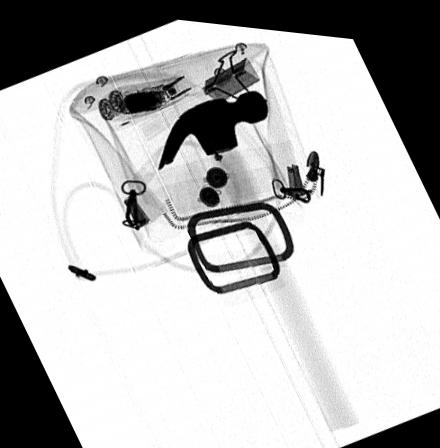Hammer: (156, 83, 358, 425)
